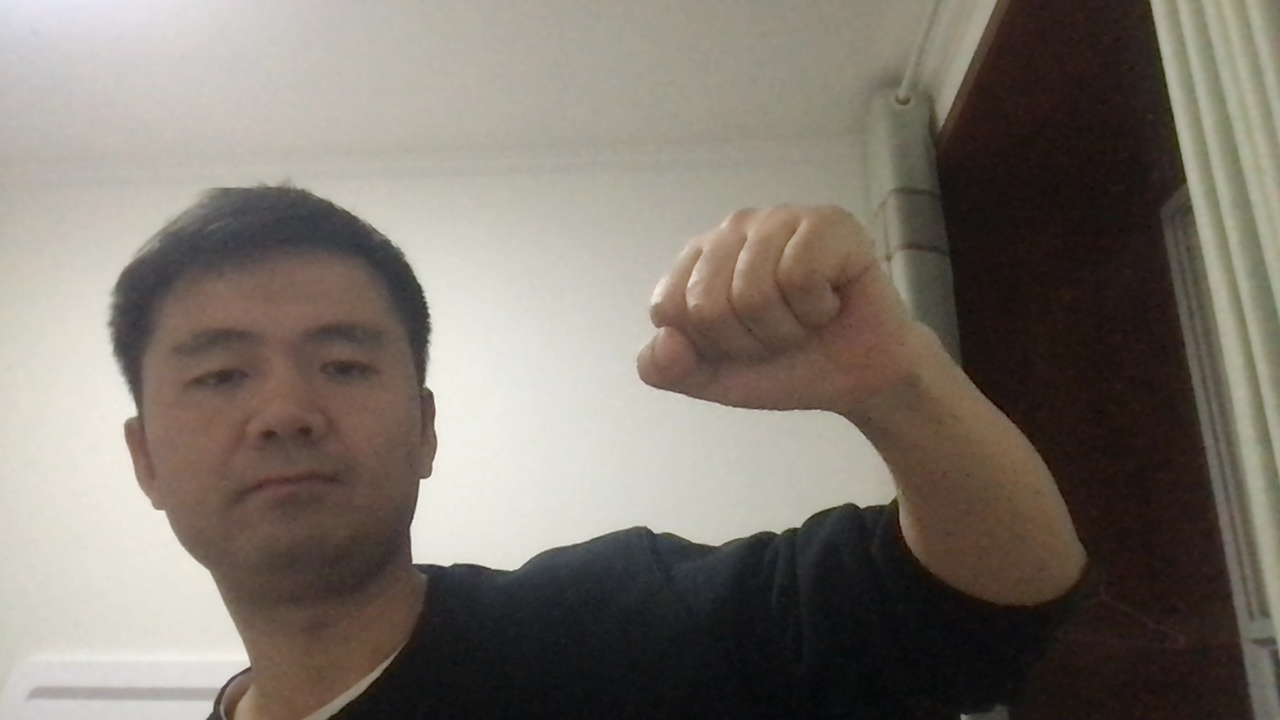ok: (624, 201, 946, 423)
